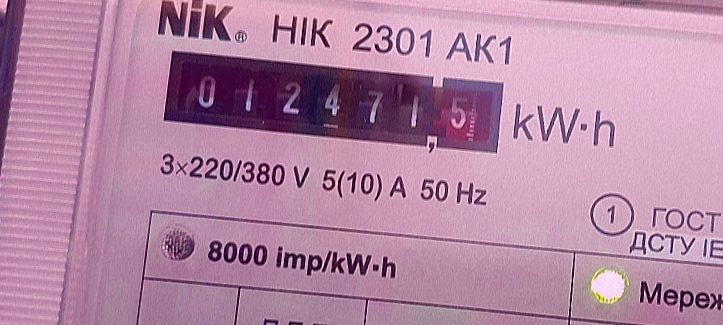0: (191, 72, 218, 111)
1: (239, 78, 255, 114), (404, 93, 419, 130)
2: (278, 80, 303, 118)
4: (319, 81, 342, 120)
5: (444, 93, 470, 133)
7: (358, 87, 383, 128)
screen: (149, 33, 516, 173)
